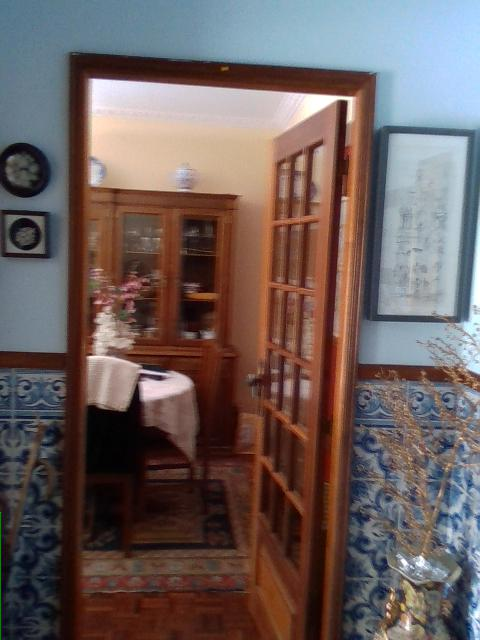door: (245, 99, 349, 640)
